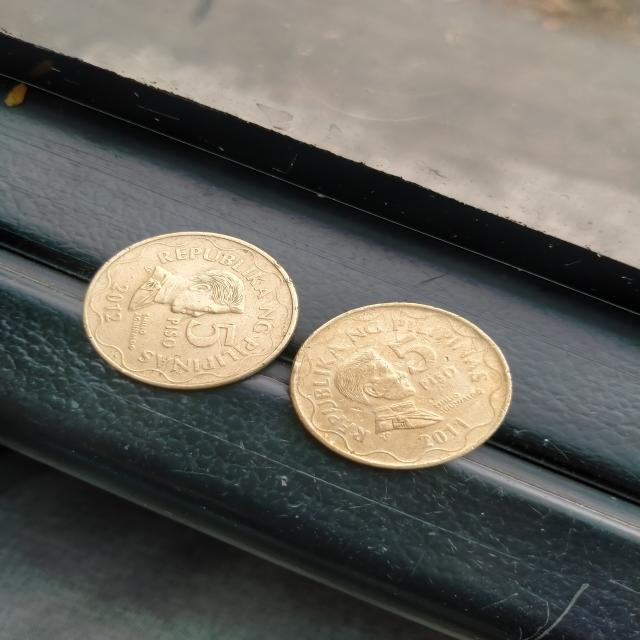5_Old_Front: (379, 330, 460, 401), (146, 302, 245, 358)
